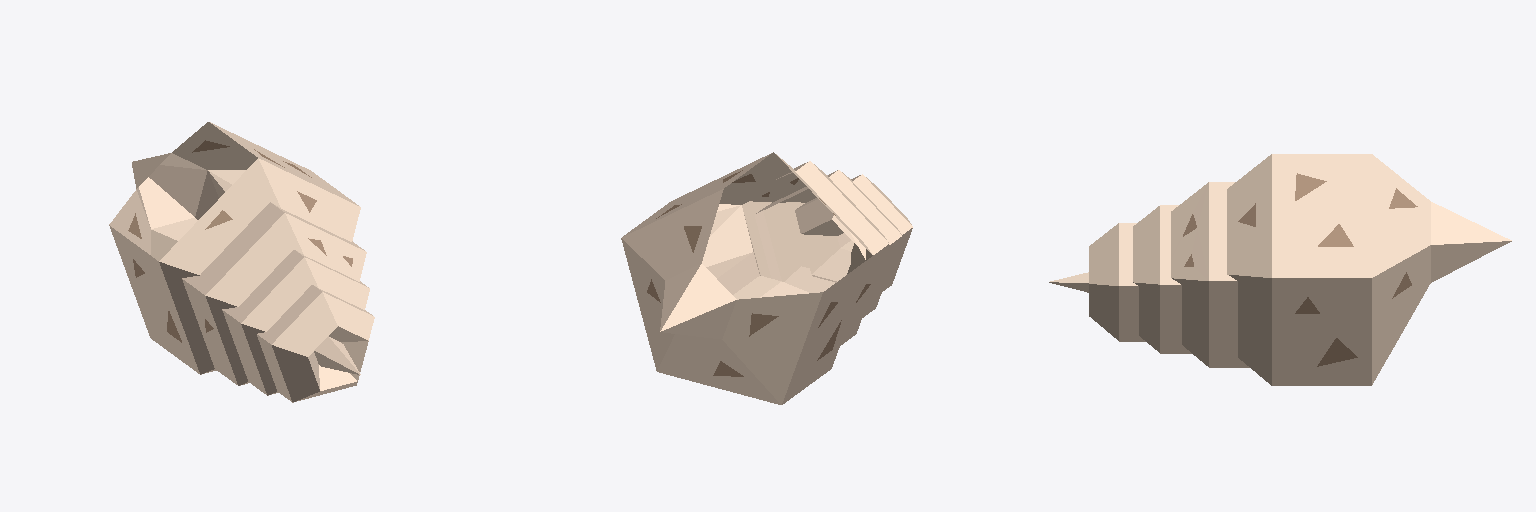
The model's file is conchshell.obj.
3 renders of one model, left to right at view 1: azimuth 30°, elevation 25°; view 2: azimuth 150°, elevation 25°; view 3: azimuth 270°, elevation 25°, orthographic.
Parts seen in each view (by area): view 1: Mesh1 Model, Mesh2 Model; view 2: Mesh1 Model; view 3: Mesh1 Model.
Part boxes in pixels (x1,y1,x2,y2): Mesh1 Model: (109,122,374,402); Mesh2 Model: (314,336,360,374); Mesh1 Model: (621,152,912,404); Mesh1 Model: (1089,154,1511,385).
Size of the model in its own units: 5.7 by 5.47 by 11.37.